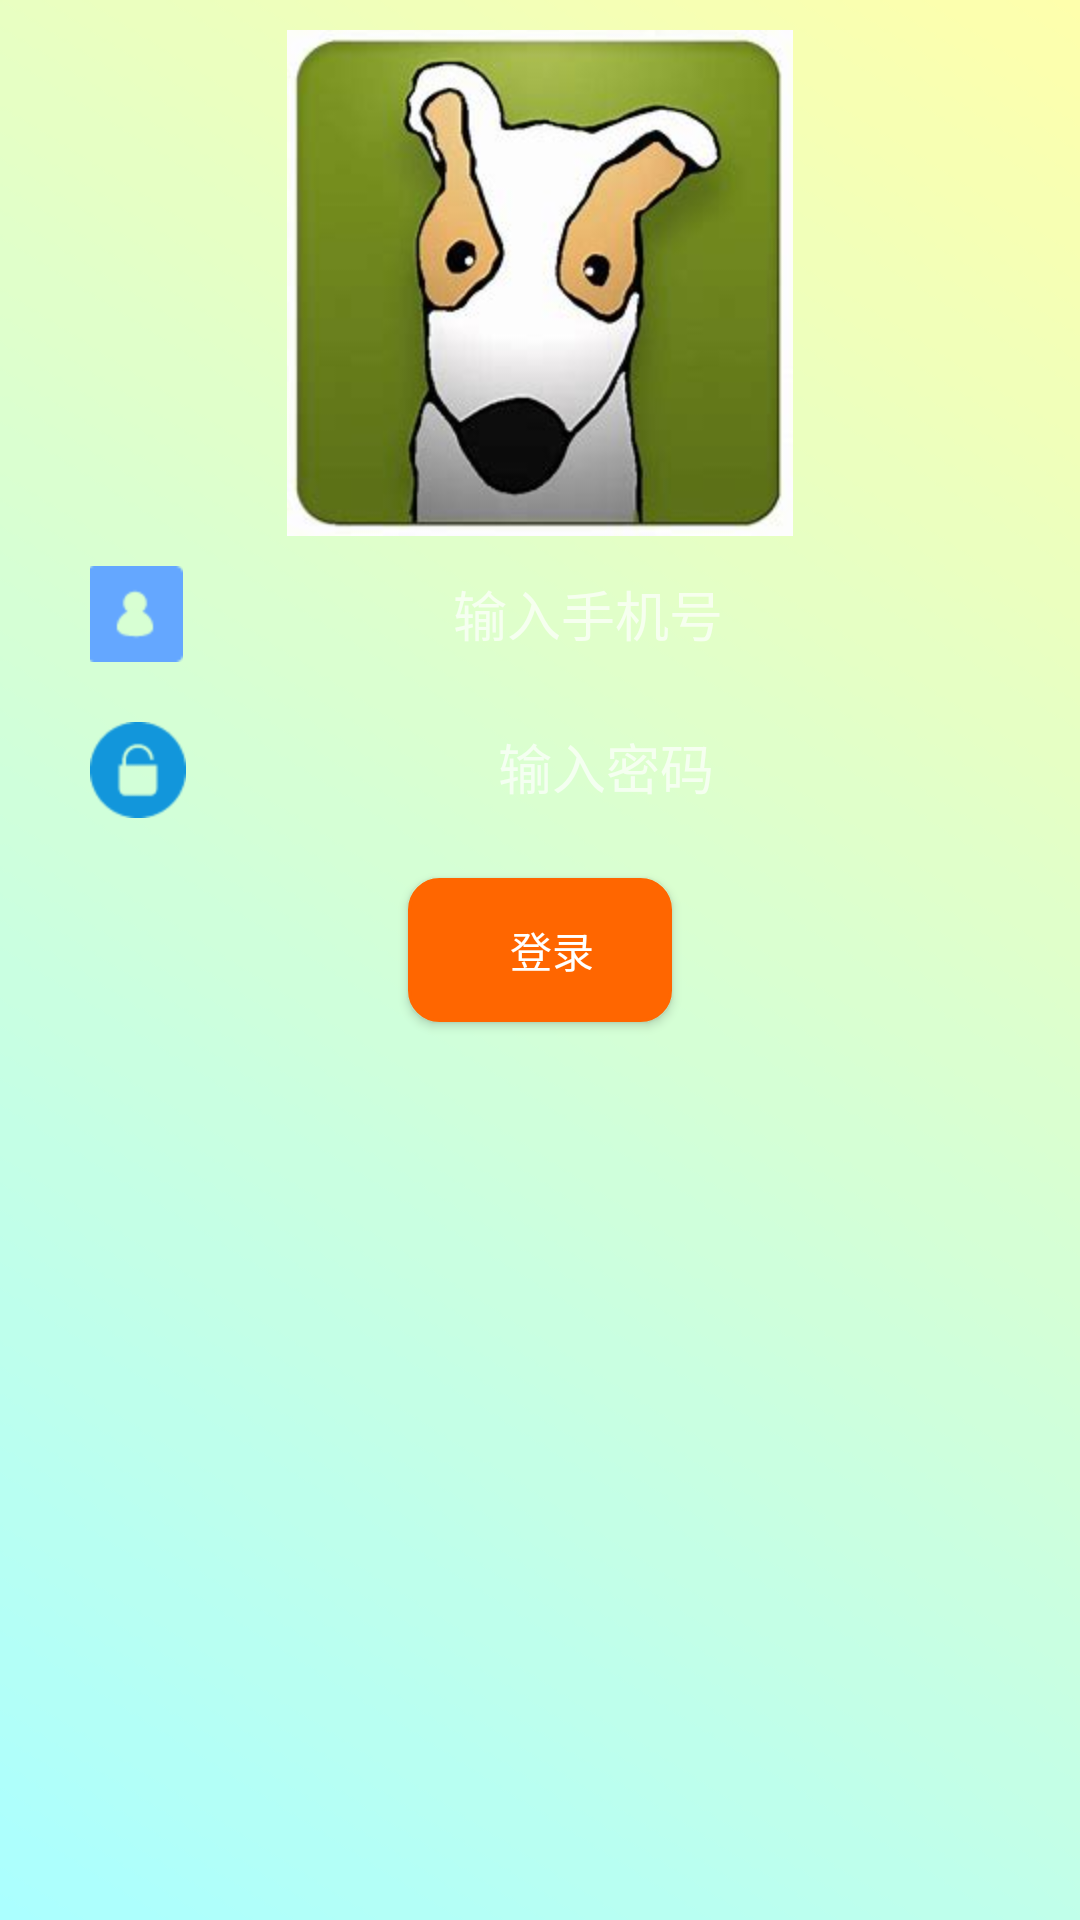

Locate icon controls on the screen. Image size 1080x1920, boxes as [x1=x1, y1=y1, x2=x2, y2=y2].
login: [x1=90, y1=566, x2=183, y2=662]
login pwd: [x1=90, y1=722, x2=186, y2=818]
